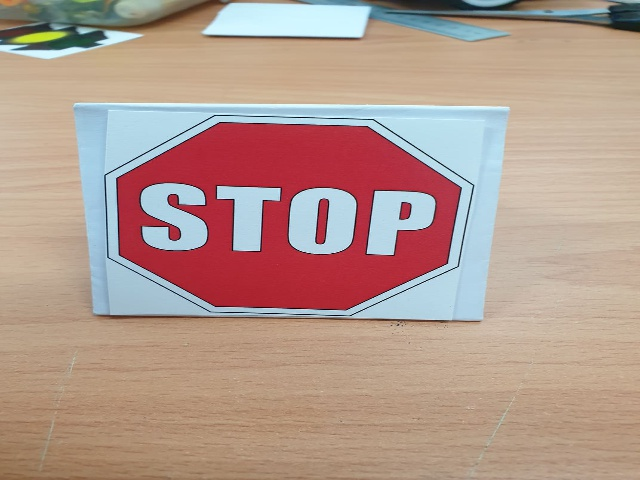Stop: (101, 103, 472, 322)
